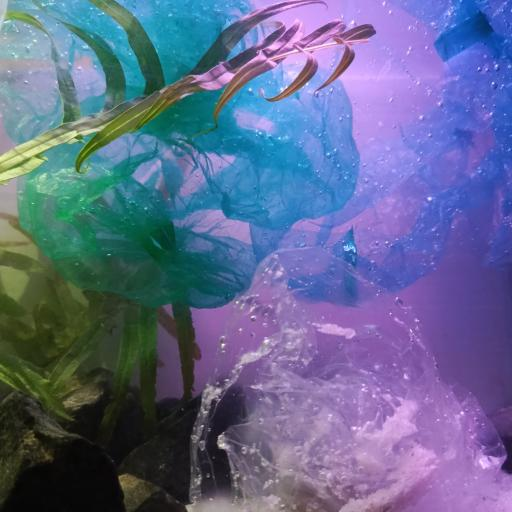plastic_bag: (0, 0, 358, 306), (190, 243, 512, 512), (276, 2, 512, 302)
